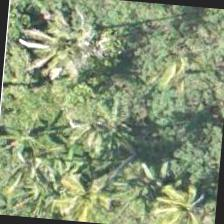Kelapa_Sawit: (10, 0, 108, 87), (35, 146, 133, 223), (136, 157, 220, 223)
